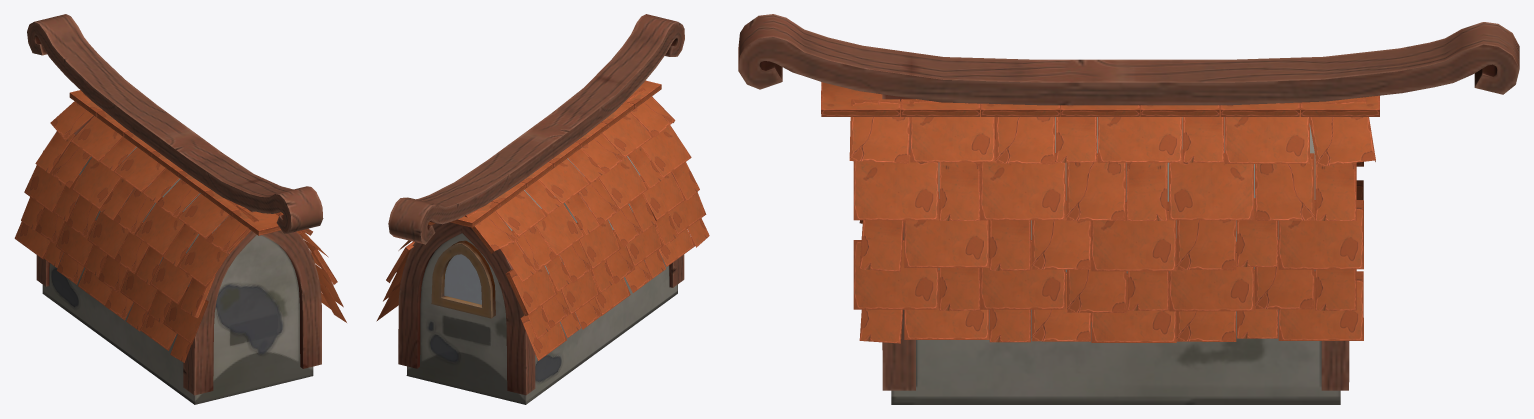
The model's file is SM_Top.fbx.
3 renders of one model, left to right at view 1: azimuth 30°, elevation 25°; view 2: azimuth 150°, elevation 25°; view 3: azimuth 270°, elevation 25°, orthographic. The views are drawn at different scales.
Visible parts, largest first — view 1: SM_Top; view 2: SM_Top, SM_Window_03; view 3: SM_Top.
Boxes of the visible parts, <box> form: SM_Top: <box>14,14,346,404</box>; SM_Top: <box>376,14,709,404</box>; SM_Window_03: <box>431,240,495,318</box>; SM_Top: <box>738,14,1519,404</box>.
Bounding box in the file's own units: 2.94 × 3.86 × 8.1.
